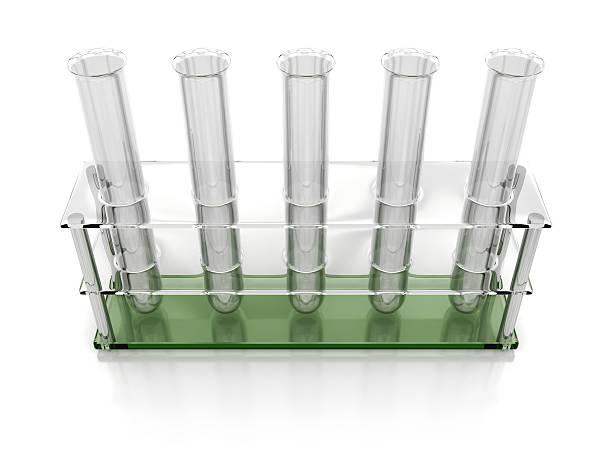Test tube: (63, 43, 168, 317), (445, 36, 539, 297), (173, 46, 252, 310), (276, 38, 343, 308), (380, 38, 415, 313)
